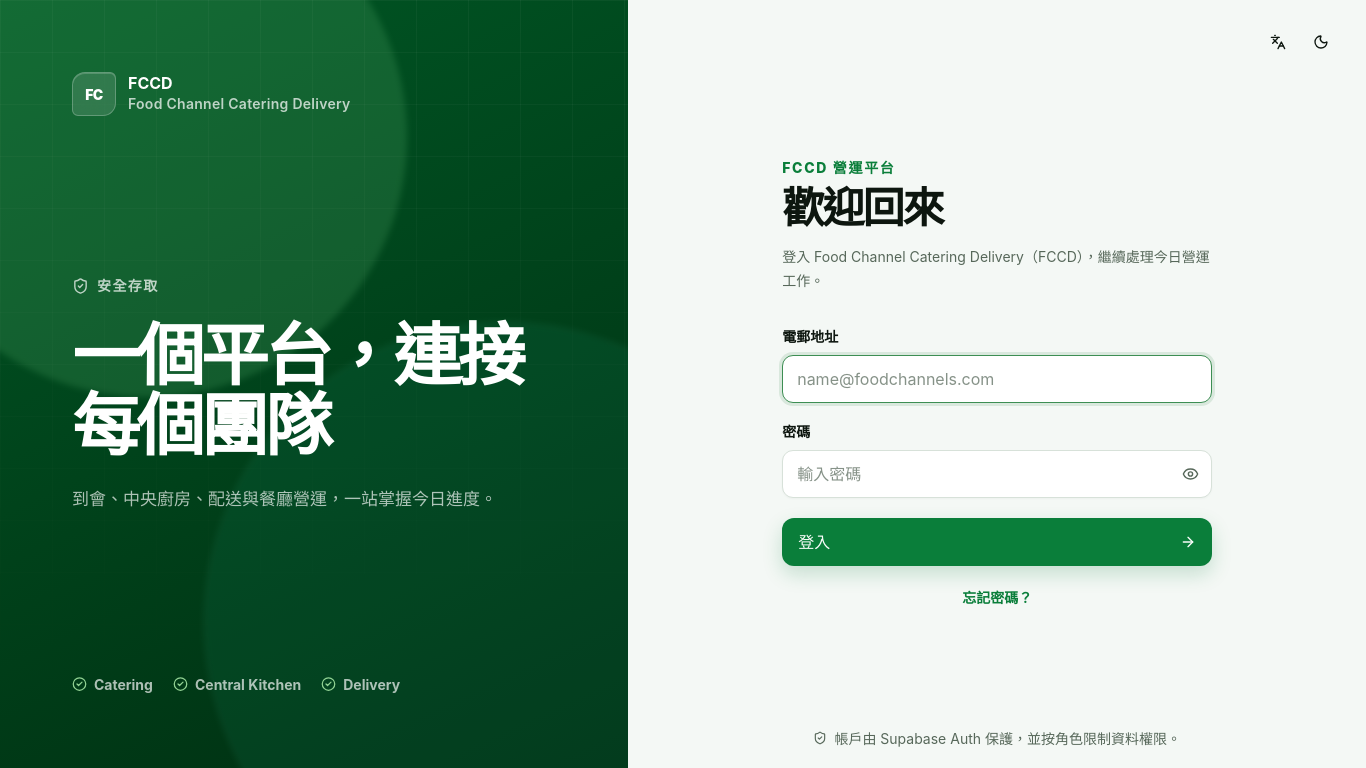
Test: LoginPage › switches the visible interface to English
Click the button named "切換語言" at (1278, 42), box [1258,22,1298,62]
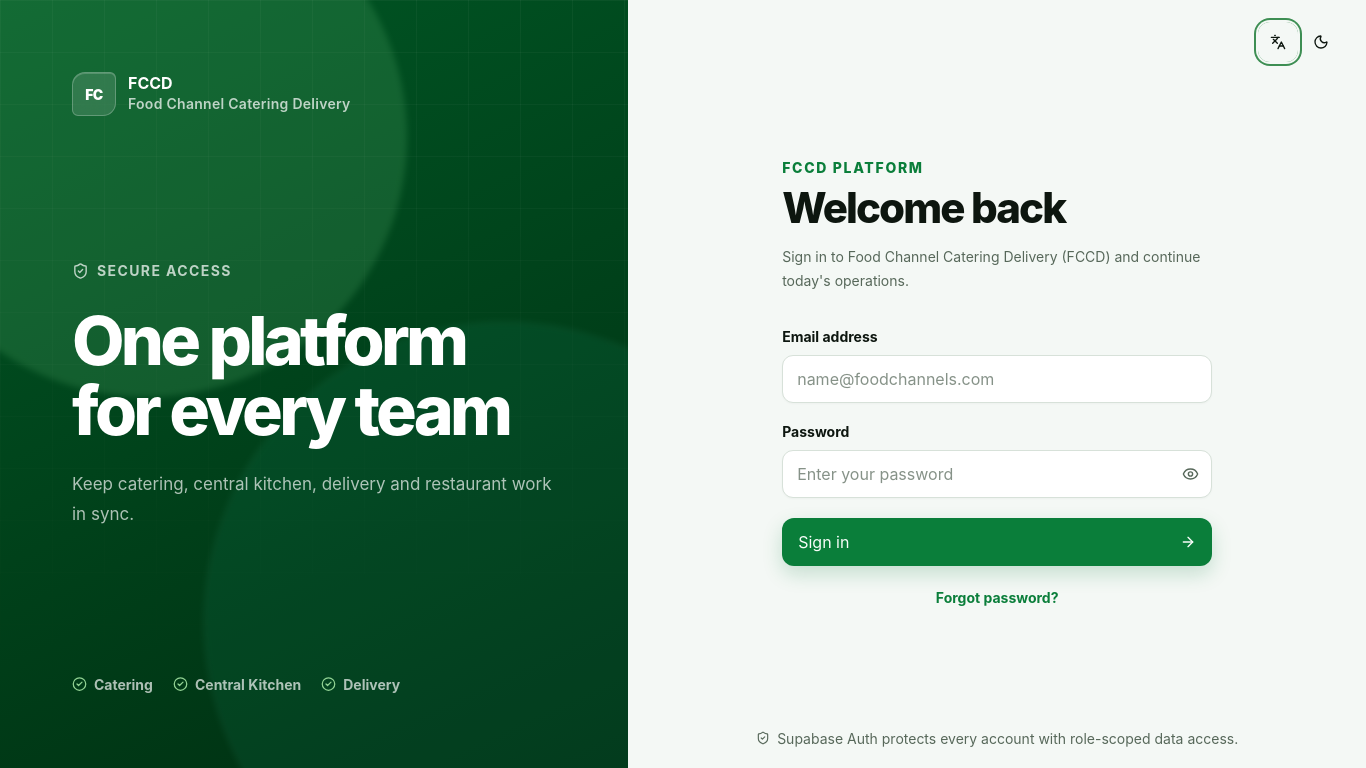
Expected: the field labelled "Email address" is shown, [782,355,1212,403]
Result: the heading "Welcome back" is shown at [782,182,1065,232]
Result: the button "Sign in" is shown at [782,518,1212,566]
